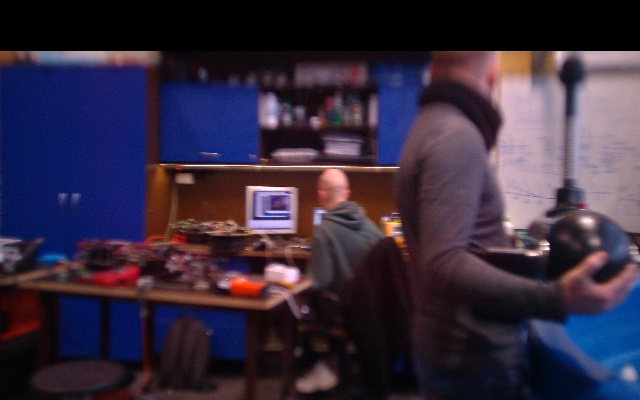black: (562, 104, 581, 187)
